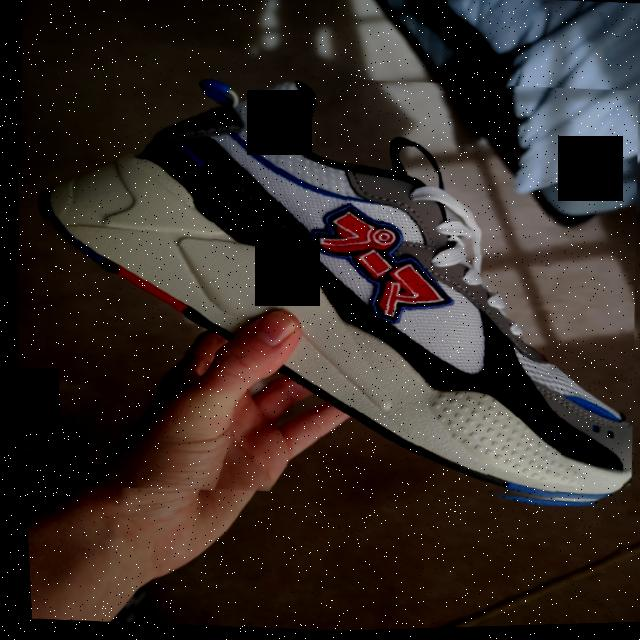shoe: (10, 53, 640, 527)
